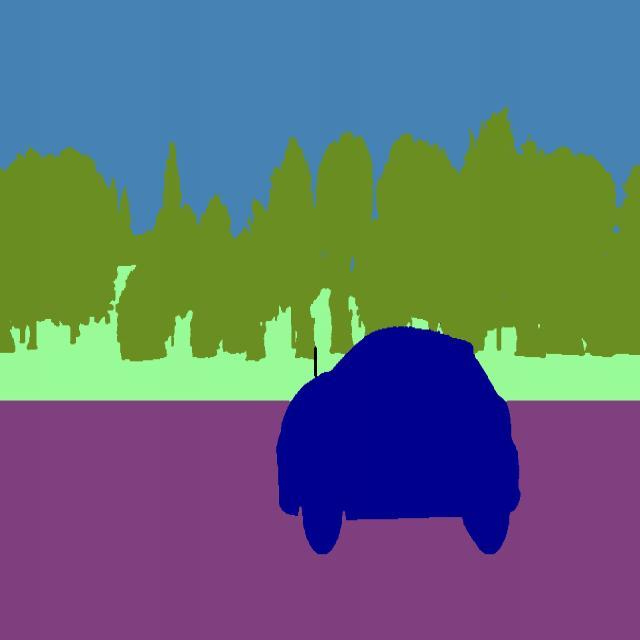unsafe: (273, 322, 526, 558)
